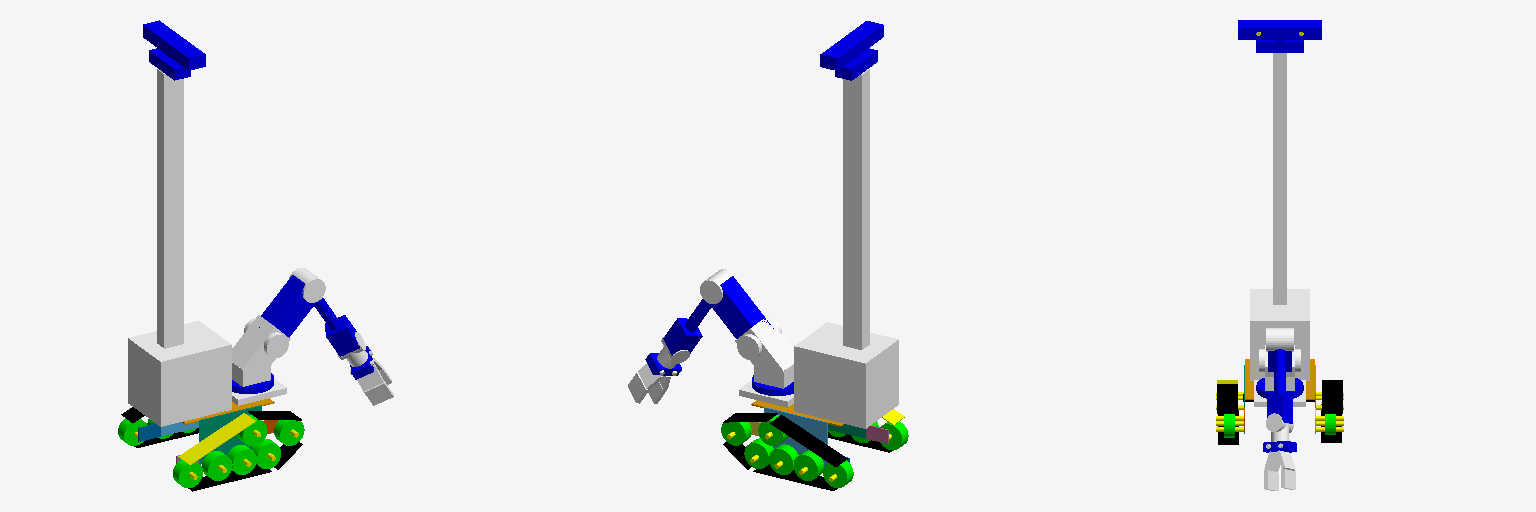
--- Render facts (derived) ---
Views: 3 orthographic renders of the robot side by side, from view 1: azimuth 30°, elevation 25°; view 2: azimuth 150°, elevation 25°; view 3: azimuth 270°, elevation 25°.
Model diego1 with 66 links and 65 joints (8 revolute, 12 continuous, 45 fixed), rooted at base_link, posed joints at zero except 1 at the middle of their limits (big_arm_round_to_joint_stevo2 = 1.79).
Visible links, largest first — view 1: control_box, camera_holder, big_arm, xtion_camera, shoulder_2, caterpilar_right2, right_leg, wrist, xtion_camera_base, arm_joint_stevo2, tyer_slave4_right, shoulder_1 (+7 smaller); view 2: control_box, camera_holder, big_arm, xtion_camera, shoulder_2, caterpilar_left2, left_leg, wrist, shoulder_1, xtion_camera_base, arm_joint_stevo2, tyer_slave4_left (+7 smaller); view 3: camera_holder, control_box, xtion_camera, arm_joint_stevo2, caterpilar_left1, caterpilar_right1, wrist, xtion_camera_base, base_link, arm_joint_stevo3.
Link boxes in pixels (bbox=[...]): control_box: bbox=[128, 321, 231, 426]; camera_holder: bbox=[157, 69, 183, 348]; big_arm: bbox=[259, 275, 316, 337]; xtion_camera: bbox=[143, 20, 205, 70]; shoulder_2: bbox=[232, 315, 290, 374]; caterpilar_right2: bbox=[178, 413, 255, 464]; right_leg: bbox=[199, 405, 261, 464]; wrist: bbox=[325, 315, 359, 356]; xtion_camera_base: bbox=[149, 48, 190, 80]; arm_joint_stevo2: bbox=[289, 268, 325, 302]; tyer_slave4_right: bbox=[202, 451, 232, 480]; shoulder_1: bbox=[232, 362, 270, 386]; control_box: bbox=[794, 322, 898, 428]; camera_holder: bbox=[843, 69, 869, 349]; big_arm: bbox=[709, 276, 773, 338]; xtion_camera: bbox=[820, 21, 883, 70]; shoulder_2: bbox=[735, 316, 793, 370]; caterpilar_left2: bbox=[770, 415, 847, 466]; left_leg: bbox=[764, 407, 827, 466]; wrist: bbox=[663, 318, 702, 355]; shoulder_1: bbox=[754, 364, 793, 388]; xtion_camera_base: bbox=[835, 48, 877, 80]; arm_joint_stevo2: bbox=[700, 269, 736, 303]; tyer_slave4_left: bbox=[794, 450, 823, 480]; camera_holder: bbox=[1273, 53, 1286, 304]; control_box: bbox=[1250, 289, 1309, 380]; xtion_camera: bbox=[1238, 20, 1321, 39]; arm_joint_stevo2: bbox=[1266, 328, 1293, 351]; caterpilar_left1: bbox=[1322, 384, 1342, 413]; caterpilar_right1: bbox=[1217, 384, 1237, 413]; wrist: bbox=[1267, 394, 1292, 423]; xtion_camera_base: bbox=[1256, 40, 1303, 52]; base_link: bbox=[1245, 359, 1314, 399]; arm_joint_stevo3: bbox=[1274, 349, 1285, 394].
Bounding box of the posed robot: 0.5646 × 0.273 × 0.9113 m (x, y, z).
Geometry: primitives only (box / cylinder / sphere), no mesh files.

The robot description file, URDF, robot "diego1":
<?xml version="1.0"?>
<robot name="diego1">
  <link name="base_link">
    <visual>
      <geometry>
        <box size="0.20 .15 .003"/>
      </geometry>
    </visual>
  </link>

  <link name="left_leg">
    <visual>
      <geometry>
        <box size="0.14 .003 .095"/>
      </geometry>
     </visual>
  </link>

  <joint name="base_to_left_leg" type="fixed">
    <parent link="base_link"/>
    <child link="left_leg"/>
    <origin xyz="0.0 0.075 -0.046"/>
  </joint>
  
  <link name="right_leg">
    <visual>
      <geometry>
        <box size="0.14 .003 .095"/>
      </geometry>
     </visual>
  </link>

  <joint name="base_to_right_leg" type="fixed">
    <parent link="base_link"/>
    <child link="right_leg"/>
    <origin xyz="0.0 -0.075 -0.046"/>
  </joint>  
  
  <link name="left_leg_front">
    <visual>
      <geometry>
        <box size="0.05 .003 .03"/>
      </geometry>
     </visual>
  </link>
  
  <joint name="base_to_left_leg_front" type="fixed">
    <parent link="left_leg"/>
    <child link="left_leg_front"/>
    <origin xyz="0.095 0.0 -0.0025"/>
  </joint>
  
  <link name="left_leg_back">
    <visual>
      <geometry>
        <box size="0.05 .003 .03"/>
      </geometry>
     </visual>
  </link>
  
  <joint name="base_to_left_leg_back" type="fixed">
    <parent link="left_leg"/>
    <child link="left_leg_back"/>
    <origin xyz="-0.095 0.0 -0.0325"/>
  </joint>
  
  <link name="right_leg_front">
    <visual>
      <geometry>
        <box size="0.05 .003 .03"/>
      </geometry>
     </visual>
  </link>
  
  <joint name="base_to_right_leg_front" type="fixed">
    <parent link="right_leg"/>
    <child link="right_leg_front"/>
    <origin xyz="0.095 0.0 -0.0025"/>
  </joint>
  
  <link name="right_leg_back">
    <visual>
      <geometry>
        <box size="0.05 .003 .03"/>
      </geometry>
     </visual>
  </link>
  
  <joint name="base_to_right_leg_back" type="fixed">
    <parent link="right_leg"/>
    <child link="right_leg_back"/>
    <origin xyz="-0.095 0.0 -0.0325"/>
  </joint>
  
  <link name="tyer_master_right_axis">
    <visual>
      <geometry>
       <cylinder length=".06" radius="0.005"></cylinder>
      </geometry>
      <material name="yellow">
          <color rgba="1 1 0 1"/>
      </material>  
    </visual>
  </link>
  
  <joint name="right_leg_to_master_right_axix" type="continuous">
    <axis xyz="0 0 1"/> 
    <parent link="right_leg"/>
    <child link="tyer_master_right_axis"/>
    <origin rpy="1.57075 0 0" xyz="0.03 -0.0315 0.0175"/>
    <limit effort="100" velocity="100"/> 
    <joint_properties damping="0.0" friction="0.0"/>
  </joint>

  <link name="tyer_master_left_axis">
    <visual>
      <geometry>
       <cylinder length=".06" radius="0.005"></cylinder>
      </geometry>
      <material name="yellow">
          <color rgba="1 1 0 1"/>
      </material>  
    </visual>
  </link>
  
  <joint name="left_leg_to_master_left_axis" type="continuous">
    <axis xyz="0 0 1"/> 
    <parent link="left_leg"/>
    <child link="tyer_master_left_axis"/>
    <origin rpy="1.57075 0 0" xyz="0.03 0.0315 0.0175"/>
    <limit effort="100" velocity="100"/> 
    <joint_properties damping="0.0" friction="0.0"/>
  </joint>
  
  <link name="tyer_master_right_motor">
    <visual>
      <geometry>
       <cylinder length=".068" radius="0.0075"></cylinder>
      </geometry>
      <material name="black">
          <color rgba="0 0 0 1"/>
      </material>  
    </visual>
  </link>
  
  <joint name="right_leg_to_master_right_motor" type="fixed">
    <axis xyz="0 0 1"/> 
    <parent link="right_leg"/>
    <child link="tyer_master_right_motor"/>
    <origin rpy="1.57075 0 0" xyz="0.03 0.0315 0.0175"/>
    <limit effort="100" velocity="100"/> 
    <joint_properties damping="0.0" friction="0.0"/>
  </joint>

  <link name="tyer_master_left_motor">
    <visual>
      <geometry>
       <cylinder length=".06" radius="0.0075"></cylinder>
      </geometry>
      <material name="black">
          <color rgba="0 0 0 1"/>
      </material>  
    </visual>
  </link>
  
  <joint name="left_leg_to_master_left_motor" type="fixed">
    <axis xyz="0 0 1"/> 
    <parent link="left_leg"/>
    <child link="tyer_master_left_motor"/>
    <origin rpy="1.57075 0 0" xyz="0.03 -0.0315 0.0175"/>
    <limit effort="100" velocity="100"/> 
    <joint_properties damping="0.0" friction="0.0"/>
  </joint>
  
  <link name="tyer_slave_right_axis1">
    <visual>
      <geometry>
       <cylinder length=".06" radius="0.005"></cylinder>
      </geometry>
      <material name="yellow">
          <color rgba="1 1 0 1"/>
      </material>  
    </visual>
  </link>
  
  <joint name="right_leg_to_slave_right_axix1" type="continuous">
    <axis xyz="0 0 1"/> 
    <parent link="right_leg_front"/>
    <child link="tyer_slave_right_axis1"/>
    <origin rpy="1.57075 0 0" xyz="0.02 -0.0315 0.0"/>
    <limit effort="100" velocity="100"/> 
    <joint_properties damping="0.0" friction="0.0"/>
  </joint>
  
  <link name="tyer_slave_right_axis2">
    <visual>
      <geometry>
       <cylinder length=".06" radius="0.005"></cylinder>
      </geometry>
      <material name="yellow">
          <color rgba="1 1 0 1"/>
      </material>  
    </visual>
  </link>
  
  <joint name="right_leg_to_slave_right_axix2" type="continuous">
    <axis xyz="0 0 1"/> 
    <parent link="right_leg"/>
    <child link="tyer_slave_right_axis2"/>
    <origin rpy="1.57075 0 0" xyz="0.063 -0.0315 -0.0405"/>
    <limit effort="100" velocity="100"/> 
    <joint_properties damping="0.0" friction="0.0"/>
  </joint>

  <link name="tyer_slave_right_axis3">
    <visual>
      <geometry>
       <cylinder length=".06" radius="0.005"></cylinder>
      </geometry>
      <material name="yellow">
          <color rgba="1 1 0 1"/>
      </material>  
    </visual>
  </link>
  
  <joint name="right_leg_to_slave_right_axix3" type="continuous">
    <axis xyz="0 0 1"/> 
    <parent link="right_leg"/>
    <child link="tyer_slave_right_axis3"/>
    <origin rpy="1.57075 0 0" xyz="0.008 -0.0315 -0.0405"/>
    <limit effort="100" velocity="100"/> 
    <joint_properties damping="0.0" friction="0.0"/>
  </joint>
  
  <link name="tyer_slave_right_axis4">
    <visual>
      <geometry>
       <cylinder length=".06" radius="0.005"></cylinder>
      </geometry>
      <material name="yellow">
          <color rgba="1 1 0 1"/>
      </material>  
    </visual>
  </link>
  
  <joint name="right_leg_to_slave_right_axix4" type="continuous">
    <axis xyz="0 0 1"/> 
    <parent link="right_leg"/>
    <child link="tyer_slave_right_axis4"/>
    <origin rpy="1.57075 0 0" xyz="-0.047 -0.0315 -0.0405"/>
    <limit effort="100" velocity="100"/> 
    <joint_properties damping="0.0" friction="0.0"/>
  </joint>  
  
  <link name="tyer_slave_right_axis5">
    <visual>
      <geometry>
       <cylinder length=".06" radius="0.005"></cylinder>
      </geometry>
      <material name="yellow">
          <color rgba="1 1 0 1"/>
      </material>  
    </visual>
  </link>
  
  <joint name="right_leg_to_slave_right_axix5" type="continuous">
    <axis xyz="0 0 1"/> 
    <parent link="right_leg_back"/>
    <child link="tyer_slave_right_axis5"/>
    <origin rpy="1.57075 0 0" xyz="-0.018 -0.0315 -0.008"/>
    <limit effort="100" velocity="100"/> 
    <joint_properties damping="0.0" friction="0.0"/>
  </joint>    
  
  <link name="tyer_slave_left_axis1">
    <visual>
      <geometry>
       <cylinder length=".06" radius="0.005"></cylinder>
      </geometry>
      <material name="yellow">
          <color rgba="1 1 0 1"/>
      </material>  
    </visual>
  </link>
  
  <joint name="right_leg_to_slave_left_axix1" type="continuous">
    <axis xyz="0 0 1"/> 
    <parent link="left_leg_front"/>
    <child link="tyer_slave_left_axis1"/>
    <origin rpy="1.57075 0 0" xyz="0.02 0.0315 0.0"/>
    <limit effort="100" velocity="100"/> 
    <joint_properties damping="0.0" friction="0.0"/>
  </joint>
  
  <link name="tyer_slave_left_axis2">
    <visual>
      <geometry>
       <cylinder length=".06" radius="0.005"></cylinder>
      </geometry>
      <material name="yellow">
          <color rgba="1 1 0 1"/>
      </material>  
    </visual>
  </link>
  
  <joint name="right_leg_to_slave_left_axix2" type="continuous">
    <axis xyz="0 0 1"/> 
    <parent link="left_leg"/>
    <child link="tyer_slave_left_axis2"/>
    <origin rpy="1.57075 0 0" xyz="0.063 0.0315 -0.0405"/>
    <limit effort="100" velocity="100"/> 
    <joint_properties damping="0.0" friction="0.0"/>
  </joint>

  <link name="tyer_slave_left_axis3">
    <visual>
      <geometry>
       <cylinder length=".06" radius="0.005"></cylinder>
      </geometry>
      <material name="yellow">
          <color rgba="1 1 0 1"/>
      </material>  
    </visual>
  </link>
  
  <joint name="right_leg_to_slave_left_axix3" type="continuous">
    <axis xyz="0 0 1"/> 
    <parent link="left_leg"/>
    <child link="tyer_slave_left_axis3"/>
    <origin rpy="1.57075 0 0" xyz="0.008 0.0315 -0.0405"/>
    <limit effort="100" velocity="100"/> 
    <joint_properties damping="0.0" friction="0.0"/>
  </joint>
  
  <link name="tyer_slave_left_axis4">
    <visual>
      <geometry>
       <cylinder length=".06" radius="0.005"></cylinder>
      </geometry>
      <material name="yellow">
          <color rgba="1 1 0 1"/>
      </material>  
    </visual>
  </link>
  
  <joint name="right_leg_to_slave_left_axix4" type="continuous">
    <axis xyz="0 0 1"/> 
    <parent link="left_leg"/>
    <child link="tyer_slave_left_axis4"/>
    <origin rpy="1.57075 0 0" xyz="-0.047 0.0315 -0.0405"/>
    <limit effort="100" velocity="100"/> 
    <joint_properties damping="0.0" friction="0.0"/>
  </joint>    

  <link name="tyer_slave_left_axis5">
    <visual>
      <geometry>
       <cylinder length=".06" radius="0.005"></cylinder>
      </geometry>
      <material name="yellow">
          <color rgba="1 1 0 1"/>
      </material>  
    </visual>
  </link>
  
  <joint name="right_leg_to_slave_left_axix5" type="continuous">
    <axis xyz="0 0 1"/> 
    <parent link="left_leg_back"/>
    <child link="tyer_slave_left_axis5"/>
    <origin rpy="1.57075 0 0" xyz="-0.018 0.0315 -0.008"/>
    <limit effort="100" velocity="100"/> 
    <joint_properties damping="0.0" friction="0.0"/>
  </joint>    
  
  <link name="tyer_master_left">
    <visual>
      <geometry>
       <cylinder length=".03" radius="0.0275"></cylinder>
      </geometry>
      <material name="green">
          <color rgba="0 1 0 1"/>
      </material>  
    </visual>
  </link>
  
  <joint name="right_leg_to_master_left" type="fixed">
    <axis xyz="0 0 1"/> 
    <parent link="tyer_master_left_axis"/>
    <child link="tyer_master_left"/>
    <origin rpy="0 0 0" xyz="0.0 0.0025 0.00"/>
    <limit effort="100" velocity="100"/> 
    <joint_properties damping="0.0" friction="0.0"/>
  </joint>  
  
  <link name="tyer_master_right">
    <visual>
      <geometry>
       <cylinder length=".03" radius="0.0275"></cylinder>
      </geometry>
      <material name="green">
          <color rgba="0 1 0 1"/>
      </material>  
    </visual>
  </link>
  
  <joint name="right_leg_to_master_right" type="fixed">
    <axis xyz="0 0 1"/> 
    <parent link="tyer_master_right_axis"/>
    <child link="tyer_master_right"/>
    <origin rpy="0 0 0" xyz="0.0 -0.0025 0.00"/>
    <limit effort="100" velocity="100"/> 
    <joint_properties damping="0.0" friction="0.0"/>
  </joint>
  
  <link name="tyer_slave1_left">
    <visual>
      <geometry>
       <cylinder length=".024" radius="0.0275"></cylinder>
      </geometry>
      <material name="green">
          <color rgba="0 1 0 1"/>
      </material>  
    </visual>
  </link>
  
  <joint name="right_leg_to_slave1_left" type="fixed">
    <axis xyz="0 0 1"/> 
    <parent link="tyer_slave_left_axis1"/>
    <child link="tyer_slave1_left"/>
    <origin rpy="0 0 0" xyz="0.0 0.0025 0.00"/>
    <limit effort="100" velocity="100"/> 
    <joint_properties damping="0.0" friction="0.0"/>
  </joint>         
  
  <link name="tyer_slave2_left">
    <visual>
      <geometry>
       <cylinder length=".024" radius="0.0275"></cylinder>
      </geometry>
      <material name="green">
          <color rgba="0 1 0 1"/>
      </material>  
    </visual>
  </link>
  
  <joint name="right_leg_to_slave2_left" type="fixed">
    <axis xyz="0 0 1"/> 
    <parent link="tyer_slave_left_axis2"/>
    <child link="tyer_slave2_left"/>
    <origin rpy="0 0 0" xyz="0.0 0.0025 0.00"/>
    <limit effort="100" velocity="100"/> 
    <joint_properties damping="0.0" friction="0.0"/>
  </joint>  
  
  <link name="tyer_slave3_left">
    <visual>
      <geometry>
       <cylinder length=".024" radius="0.0275"></cylinder>
      </geometry>
      <material name="green">
          <color rgba="0 1 0 1"/>
      </material>  
    </visual>
  </link>
  
  <joint name="right_leg_to_slave3_left" type="fixed">
    <axis xyz="0 0 1"/> 
    <parent link="tyer_slave_left_axis3"/>
    <child link="tyer_slave3_left"/>
    <origin rpy="0 0 0" xyz="0.0 0.0025 0.00"/>
    <limit effort="100" velocity="100"/> 
    <joint_properties damping="0.0" friction="0.0"/>
  </joint>   
  
  <link name="tyer_slave4_left">
    <visual>
      <geometry>
       <cylinder length=".024" radius="0.0275"></cylinder>
      </geometry>
      <material name="green">
          <color rgba="0 1 0 1"/>
      </material>  
    </visual>
  </link>
  
  <joint name="right_leg_to_slave4_left" type="fixed">
    <axis xyz="0 0 1"/> 
    <parent link="tyer_slave_left_axis4"/>
    <child link="tyer_slave4_left"/>
    <origin rpy="0 0 0" xyz="0.0 0.0025 0.00"/>
    <limit effort="100" velocity="100"/> 
    <joint_properties damping="0.0" friction="0.0"/>
  </joint>    
  
  <link name="tyer_slave5_left">
    <visual>
      <geometry>
       <cylinder length=".024" radius="0.0275"></cylinder>
      </geometry>
      <material name="green">
          <color rgba="0 1 0 1"/>
      </material>  
    </visual>
  </link>
  
  <joint name="right_leg_to_slave5_left" type="fixed">
    <axis xyz="0 0 1"/> 
    <parent link="tyer_slave_left_axis5"/>
    <child link="tyer_slave5_left"/>
    <origin rpy="0 0 0" xyz="0.0 0.0025 0.00"/>
    <limit effort="100" velocity="100"/> 
    <joint_properties damping="0.0" friction="0.0"/>
  </joint>           

  <link name="tyer_slave1_right">
    <visual>
      <geometry>
       <cylinder length=".024" radius="0.0275"></cylinder>
      </geometry>
      <material name="green">
          <color rgba="0 1 0 1"/>
      </material>  
    </visual>
  </link>
    
  <joint name="right_leg_to_slave1_right" type="fixed">
    <axis xyz="0 0 1"/> 
    <parent link="tyer_slave_right_axis1"/>
    <child link="tyer_slave1_right"/>
    <origin rpy="0 0 0" xyz="0.0 -0.0025 0.00"/>
    <limit effort="100" velocity="100"/> 
    <joint_properties damping="0.0" friction="0.0"/>
  </joint>   
  
  <link name="tyer_slave2_right">
    <visual>
      <geometry>
       <cylinder length=".024" radius="0.0275"></cylinder>
      </geometry>
      <material name="green">
          <color rgba="0 1 0 1"/>
      </material>  
    </visual>
  </link>
  
  <joint name="right_leg_to_slave2_right" type="fixed">
    <axis xyz="0 0 1"/> 
    <parent link="tyer_slave_right_axis2"/>
    <child link="tyer_slave2_right"/>
    <origin rpy="0 0 0" xyz="0.0 -0.0025 0.00"/>
    <limit effort="100" velocity="100"/> 
    <joint_properties damping="0.0" friction="0.0"/>
  </joint>      
  
  
  <link name="tyer_slave3_right">
    <visual>
      <geometry>
       <cylinder length=".024" radius="0.0275"></cylinder>
      </geometry>
      <material name="green">
          <color rgba="0 1 0 1"/>
      </material>  
    </visual>
  </link>
  
  <joint name="right_leg_to_slave3_right" type="fixed">
    <axis xyz="0 0 1"/> 
    <parent link="tyer_slave_right_axis3"/>
    <child link="tyer_slave3_right"/>
    <origin rpy="0 0 0" xyz="0.0 -0.0025 0.00"/>
    <limit effort="100" velocity="100"/> 
    <joint_properties damping="0.0" friction="0.0"/>
  </joint>   
  
  <link name="tyer_slave4_right">
    <visual>
      <geometry>
       <cylinder length=".024" radius="0.0275"></cylinder>
      </geometry>
      <material name="green">
          <color rgba="0 1 0 1"/>
      </material>  
    </visual>
  </link>
  
  <joint name="right_leg_to_slave4_right" type="fixed">
    <axis xyz="0 0 1"/> 
    <parent link="tyer_slave_right_axis4"/>
    <child link="tyer_slave4_right"/>
    <origin rpy="0 0 0" xyz="0.0 -0.0025 0.00"/>
    <limit effort="100" velocity="100"/> 
    <joint_properties damping="0.0" friction="0.0"/>
  </joint>    
  
  <link name="tyer_slave5_right">
    <visual>
      <geometry>
       <cylinder length=".024" radius="0.0275"></cylinder>
      </geometry>
      <material name="green">
          <color rgba="0 1 0 1"/>
      </material>  
    </visual>
  </link>
  
  <joint name="right_leg_to_slave5_right" type="fixed">
    <axis xyz="0 0 1"/> 
    <parent link="tyer_slave_right_axis5"/>
    <child link="tyer_slave5_right"/>
    <origin rpy="0 0 0" xyz="0.0 -0.0025 0.00"/>
    <limit effort="100" velocity="100"/> 
    <joint_properties damping="0.0" friction="0.0"/>
  </joint>  
  
  <link name="caterpilar_left1">
    <visual>
      <geometry>
       <box size="0.10 .045 .0015"/>
      </geometry>
      <material name="black">
          <color rgba="0 0 0 1"/>
      </material>  
    </visual>
  </link>    
  
  <joint name="tyer_master_left_motor_to_caterpilar_left1" type="fixed">
    <parent link="tyer_master_left_motor"/>
    <child link="caterpilar_left1"/>
    <origin rpy="1.57075 0 -0.24178" xyz="0.05 0.02 -0.068"/>
    <limit effort="100" velocity="100"/> 
    <joint_properties damping="0.0" friction="0.0"/>
  </joint>  
  
  <link name="caterpilar_left2">
    <visual>
      <geometry>
       <box size="0.16 .045 .0015"/>
      </geometry>
      <material name="black">
          <color rgba="0 0 0 1"/>
      </material>  
    </visual>
  </link>    
  
  <joint name="tyer_master_left_motor_to_caterpilar_left2" type="fixed">
    <parent link="tyer_master_left_motor"/>
    <child link="caterpilar_left2"/>
    <origin rpy="1.57075 0 0.38178" xyz="-0.080 -0.00 -0.068"/>
    <limit effort="100" velocity="100"/> 
    <joint_properties damping="0.0" friction="0.0"/>
  </joint>    
  
  <link name="caterpilar_left3">
    <visual>
      <geometry>
       <box size="0.07 .045 .0015"/>
      </geometry>
      <material name="black">
          <color rgba="0 0 0 1"/>
      </material>  
    </visual>
  </link>    
  
  <joint name="tyer_master_left_motor_to_caterpilar_left3" type="fixed">
    <parent link="tyer_slave2_left"/>
    <child link="caterpilar_left3"/>
    <origin rpy="1.57075 0 0.64178" xyz="0.0405 -0.0065 -0.002"/>
    <limit effort="100" velocity="100"/> 
    <joint_properties damping="0.0" friction="0.0"/>
  </joint>  
  
  <link name="caterpilar_left4">
    <visual>
      <geometry>
       <box size="0.18 .045 .0015"/>
      </geometry>
      <material name="black">
          <color rgba="0 0 0 1"/>
      </material>  
    </visual>
  </link>    
  
  <joint name="tyer_master_left_motor_to_caterpilar_left4" type="fixed">
    <parent link="tyer_slave2_left"/>
    <child link="caterpilar_left4"/>
    <origin rpy="1.57075 0 0" xyz="-0.09 -0.028 -0.002"/>
    <limit effort="100" velocity="100"/> 
    <joint_properties damping="0.0" friction="0.0"/>
  </joint>    
  
  <link name="caterpilar_right1">
    <visual>
      <geometry>
       <box size="0.10 .045 .0015"/>
      </geometry>
      <material name="black">
          <color rgba="0 0 0 1"/>
      </material>  
    </visual>
  </link>    
  
  <joint name="tyer_master_left_motor_to_caterpilar_right1" type="fixed">
    <parent link="tyer_master_right_motor"/>
    <child link="caterpilar_right1"/>
    <origin rpy="1.57075 0 -0.24178" xyz="0.05 0.02 0.068"/>
    <limit effort="100" velocity="100"/> 
    <joint_properties damping="0.0" friction="0.0"/>
  </joint>  
  
  <link name="caterpilar_right2">
    <visual>
      <geometry>
       <box size="0.16 .045 .0015"/>
      </geometry>
      <material name="yellow">
          <color rgba="1 1 0 1"/>
      </material>  
    </visual>
  </link>    
  
  <joint name="tyer_master_left_motor_to_caterpilar_right2" type="fixed">
    <parent link="tyer_master_right_motor"/>
    <child link="caterpilar_right2"/>
    <origin rpy="1.57075 0 0.38178" xyz="-0.080 -0.00 0.068"/>
    <limit effort="100" velocity="100"/> 
    <joint_properties damping="0.0" friction="0.0"/>
  </joint>    
  
  <link name="caterpilar_right3">
    <visual>
      <geometry>
       <box size="0.07 .045 .0015"/>
      </geometry>
      <material name="black">
          <color rgba="0 0 0 1"/>
      </material>  
    </visual>
  </link>    
  
  <joint name="tyer_master_left_motor_to_caterpilar_right3" type="fixed">
    <parent link="tyer_slave2_right"/>
    <child link="caterpilar_right3"/>
    <origin rpy="1.57075 0 0.64178" xyz="0.0405 -0.0065 0.002"/>
    <limit effort="100" velocity="100"/> 
    <joint_properties damping="0.0" friction="0.0"/>
  </joint>  
  
  <link name="caterpilar_right4">
    <visual>
      <geometry>
       <box size="0.18 .045 .0015"/>
      </geometry>
      <material name="black">
          <color rgba="0 0 0 1"/>
      </material>  
    </visual>
  </link>    
  
  <joint name="tyer_master_left_motor_to_caterpilar_right4" type="fixed">
    <parent link="tyer_slave2_right"/>
    <child link="caterpilar_right4"/>
    <origin rpy="1.57075 0 0" xyz="-0.09 -0.028 0.002"/>
    <limit effort="100" velocity="100"/> 
    <joint_properties damping="0.0" friction="0.0"/>
  </joint>    
  
  <link name="arm_base">
    <visual>
      <geometry>
       <box size="0.11 .11 .013"/>
      </geometry>
      <material name="black">
          <color rgba="255 255 255 1"/>
      </material>  
    </visual>
  </link>  
  
  <joint name="base_to_arm_base" type="fixed">
    <parent link="base_link"/>
    <child link="arm_base"/>
    <origin xyz="0.085 0.0 0.008"/>
  </joint>  
  
  <link name="control_box">
    <visual>
      <geometry>
       <box size="0.16 .128 .14"/>
      </geometry>
      <material name="black">
          <color rgba="255 255 255 1"/>
      </material>  
    </visual>
  </link>  
  
  <joint name="base_to_control_box" type="fixed">
    <parent link="base_link"/>
    <child link="control_box"/>
    <origin xyz="-0.07 0.0 0.0715"/>
  </joint>  
<!-- camera holder-->  
  <link name="camera_holder">
    <visual>
      <geometry>
       <box size="0.043 .03 .59"/>
      </geometry>
      <material name="silver">
          <color rgba="161 161 161 1"/>
      </material>  
    </visual>
  </link>  
  
  <joint name="control_box_to_camera_holder" type="fixed">
    <parent link="control_box"/>
    <child link="camera_holder"/>
    <origin xyz="-0.0215 0.0 0.365"/>
  </joint>  
  
<!-- xtion-->
  <link name="xtion_camera_base">
    <visual>
      <geometry>
       <box size="0.038 .10 .025"/>
      </geometry>
      <material name="black">
          <color rgba="0 0 1 1"/>
      </material>  
    </visual>
  </link>  
  
  <joint name="camera_holder_to_xtion_camera_base" type="fixed">
    <parent link="camera_holder"/>
    <child link="xtion_camera_base"/>
    <origin xyz="0.0 0.0 0.3075"/>
  </joint>
  
  <link name="xtion_camera_base_neck">
    <visual>
      <geometry>
       <box size="0.020 .020 .020"/>
      </geometry>
      <material name="black">
          <color rgba="0 0 50 1"/>
      </material>  
    </visual>
  </link>  
  
  <joint name="xtion_camera_base_to_neck" type="fixed">
    <parent link="xtion_camera_base"/>
    <child link="xtion_camera_base_neck"/>
    <origin xyz="0.009 0.0 0.0125"/>
  </joint>   
  
  <link name="xtion_camera">
    <visual>
      <geometry>
       <box size="0.038 .18 .027"/>
      </geometry>
      <material name="black">
          <color rgba="0 0 1 1"/>
      </material>  
    </visual>
  </link>  
  
  <joint name="xtion_camera_base_neck_to_camera" type="fixed">
    <parent link="xtion_camera_base_neck"/>
    <child link="xtion_camera"/>
    <origin xyz="0.0 0.0 0.0235"/>
  </joint>      
  
  <link name="xtion_camera_eye_left">
    <visual>
      <geometry>
       <cylinder length=".002" radius="0.005"></cylinder>
      </geometry>
      <material name="yellow">
          <color rgba="1 1 0 1"/>
      </material>  
    </visual>
  </link>
  
  <joint name="xtion_camera_to_eye_left" type="fixed">
    <axis xyz="0 0 1"/> 
    <parent link="xtion_camera"/>
    <child link="xtion_camera_eye_left"/>
    <origin rpy="0 1.57075 0" xyz="0.0191 0.045 0.0"/>
    <limit effort="100" velocity="100"/> 
    <joint_properties damping="0.0" friction="0.0"/>
  </joint>   
  
  <link name="xtion_camera_eye_right">
    <visual>
      <geometry>
       <cylinder length=".002" radius="0.005"></cylinder>
      </geometry>
      <material name="yellow">
          <color rgba="1 1 0 1"/>
      </material>  
    </visual>
  </link>
  
  <joint name="xtion_camera_to_eye_right" type="fixed">
    <axis xyz="0 0 1"/> 
    <parent link="xtion_camera"/>
    <child link="xtion_camera_eye_right"/>
    <origin rpy="0 1.57075 0" xyz="0.0191 -0.045 0.0"/>
    <limit effort="100" velocity="100"/> 
    <joint_properties damping="0.0" friction="0.0"/>
  </joint>
<!--arm-->
  <link name="arm_round_joint_stevo0">
    <visual>
      <geometry>
       <cylinder length=".013" radius="0.05"></cylinder>
      </geometry>
      <material name="blue">
          <color rgba="0 0 255 1"/>
      </material>  
    </visual>
  </link>
  
  <joint name="arm_base_to_arm_round_joint_stevo0" type="revolute">
    <axis xyz="0 0 1"/> 
    <parent link="arm_base"/>
    <child link="arm_round_joint_stevo0"/>
    <origin rpy="0 0 0" xyz="0.00 0.00 0.013"/>
    <limit effort="100" velocity="100" lower="-1.5707963" upper="1.5707963"/> 
    <joint_properties damping="0.0" friction="0.0"/>
  </joint>  
  
  <link name="shoulder_1">
    <visual>
      <geometry>
       <box size="0.065 .065 .037"/>
      </geometry>
      <material name="silver1">
          <color rgba="232 232 232 1"/>
      </material>  
    </visual>
  </link>  
  
  <joint name="arm_round_joint_stevo0_to_shoulder_1" type="fixed">
    <parent link="arm_round_joint_stevo0"/>
    <child link="shoulder_1"/>
    <origin xyz="0.0 0.0 0.025"/>
  </joint>  
  
   <link name="shoulder_2">
    <visual>
      <geometry>
       <box size="0.05 .065 .105"/>
      </geometry>
      <material name="silver">
          <color rgba="232 232 232 1"/>
      </material>  
    </visual>
  </link>  
  
  <joint name="shoulder_1_to_shoulder_1" type="fixed">
    <parent link="shoulder_1"/>
    <child link="shoulder_2"/>
    <origin rpy="0 0.785398 0" xyz="0.022 0.0 0.03915"/>
  </joint>  
  
  <link name="arm_joint_stevo1">
    <visual>
      <geometry>
       <cylinder length=".09" radius="0.025"></cylinder>
      </geometry>
      <material name="black">
          <color rgba="255 255 255 1"/>
      </material>  
    </visual>
  </link>
  
  <joint name="shoulder_2_to_arm_joint_stevo1" type="revolute">
    <axis xyz="0 0 1"/> 
    <parent link="shoulder_2"/>
    <child link="arm_joint_stevo1"/>
    <origin rpy="1.5707963 0 0" xyz="0.00 0.00 0.025"/>
    <limit effort="100" velocity="100" lower="-0.1899" upper="1.5707963"/> 
    <joint_properties damping="0.0" friction="0.0"/>
  </joint>  
  
   <link name="big_arm">
    <visual>
      <geometry>
       <box size="0.05 .05 .13"/>
      </geometry>
      <material name="blue">
          <color rgba="0 0 255 1"/>
      </material>  
    </visual>
  </link>  
  
  <joint name="arm_joint_stevo1_to_big_arm" type="fixed">
    <parent link="arm_joint_stevo1"/>
    <child link="big_arm"/>
    <origin rpy="1.5707963 0 0" xyz="0.0 0.065 0.0"/>
  </joint>  
  
  <link name="arm_joint_stevo2">
    <visual>
      <geometry>
       <cylinder length=".06" radius="0.025"></cylinder>
      </geometry>
      <material name="black">
          <color rgba="255 255 255 1"/>
      </material>  
    </visual>
  </link>
  
  <joint name="big_arm_round_to_joint_stevo2" type="revolute">
    <axis xyz="0 0 1"/> 
    <parent link="big_arm"/>
    <child link="arm_joint_stevo2"/>
    <origin rpy="1.5707963 0 0" xyz="0.00 0.00 -0.065"/>
    <limit effort="100" velocity="100" lower="1.0" upper="2.5891"/> 
    <joint_properties damping="0.0" friction="0.0"/>
  </joint>    

  <link name="arm_joint_stevo3">
    <visual>
      <geometry>
       <cylinder length=".12" radius="0.012"></cylinder>
      </geometry>
      <material name="blue">
          <color rgba="0 0 255 1"/>
      </material>  
    </visual>
  </link>  
  
 <joint name="arm_joint_stevo2_to_arm_joint_stevo3" type="revolute">
    <axis xyz="0 0 1"/> 
    <parent link="arm_joint_stevo2"/>
    <child link="arm_joint_stevo3"/>
    <origin rpy="1.5707963 -0.52359877 0" xyz="0.00 -0.06 0.00"/>
    <limit effort="100" velocity="100" lower="-1.5707963" upper="1.5707963"/> 
    <joint_properties damping="0.0" friction="0.0"/>
  </joint> 

  <link name="wrist">
    <visual>
      <geometry>
       <box size="0.045 .04 .06"/>
      </geometry>
      <material name="blue">
          <color rgba="0 0 255 1"/>
      </material>  
    </visual>
  </link>  
  
  <joint name="arm_joint_stevo3_to_wrist" type="fixed">
    <parent link="arm_joint_stevo3"/>
    <child link="wrist"/>
    <origin rpy="0 0 0" xyz="0.0 0.0 0.09"/>
  </joint>  

  <link name="arm_joint_stevo4">
    <visual>
      <geometry>
       <cylinder length=".05" radius="0.02"></cylinder>
      </geometry>
      <material name="black">
          <color rgba="255 255 255 1"/>
      </material>  
    </visual>
  </link>  
  
 <joint name="wrist_to_arm_joint_stevo4" type="revolute">
    <axis xyz="0 0 1"/> 
    <parent link="wrist"/>
    <child link="arm_joint_stevo4"/>
    <origin rpy="0 1.5707963 0" xyz="0.00 0.00 0.03"/>
    <limit effort="100" velocity="100" lower="-1.5707963" upper="1.5707963"/> 
    <joint_properties damping="0.0" friction="0.0"/>
  </joint>

  <link name="arm_joint_stevo5">
    <visual>
      <geometry>
       <cylinder length=".04" radius="0.02"></cylinder>
      </geometry>
      <material name="black">
          <color rgba="255 255 255 1"/>
      </material>  
    </visual>
  </link>
  <joint name="arm_joint_stevo4_to_arm_joint_stevo5" type="revolute">
    <axis xyz="0 0 1"/> 
    <parent link="arm_joint_stevo4"/>
    <child link="arm_joint_stevo5"/>
    <origin rpy="0 1.5707963 0" xyz="-0.02 0.00 0.00"/>
    <limit effort="100" velocity="100" lower="-1.5707963" upper="1.5707963"/> 
    <joint_properties damping="0.0" friction="0.0"/>
  </joint> 

  <link name="hand">
    <visual>
      <geometry>
       <box size="0.04 .06 .02"/>
      </geometry>
      <material name="blue">
          <color rgba="0 0 255 1"/>
      </material>  
    </visual>
  </link>  
  
  <joint name="arm_joint_stevo5_to_hand" type="fixed">
    <parent link="arm_joint_stevo5"/>
    <child link="hand"/>
    <origin rpy="0 0 0" xyz="0.0 0.0 -0.03"/>
  </joint> 

  <link name="grip_joint_stevo6">
    <visual>
      <geometry>
       <cylinder length=".05" radius="0.005"></cylinder>
      </geometry>
      <material name="black">
          <color rgba="255 255 255 1"/>
      </material>  
    </visual>
  </link>
  <joint name="hand_to_grip_joint_stevo6" type="revolute">
    <axis xyz="0 0 1"/> 
    <parent link="hand"/>
    <child link="grip_joint_stevo6"/>
    <origin rpy="0 1.5707963 0" xyz="0.00 0.015 0.00"/>
    <limit effort="100" velocity="100" lower="-0.1762" upper="0.8285"/> 
    <joint_properties damping="0.0" friction="0.0"/>
  </joint> 

  <link name="grip_joint_stevo7">
    <visual>
      <geometry>
       <cylinder length=".05" radius="0.005"></cylinder>
      </geometry>
      <material name="black">
          <color rgba="255 255 255 1"/>
      </material>  
    </visual>
  </link>
  <joint name="hand_to_grip_joint_stevo7" type="revolute">
    <axis xyz="0 0 1"/> 
    <parent link="hand"/>
    <child link="grip_joint_stevo7"/>
    <origin rpy="0 1.5707963 0" xyz="0.00 -0.015 0.00"/>
    <limit effort="100" velocity="100" lower="-0.8285" upper="0.1584"/> 
    <joint_properties damping="0.0" friction="0.0"/>
  </joint> 

  <link name="finger_left_big">
    <visual>
      <geometry>
       <box size="0.04 .009 .045"/>
      </geometry>
      <material name="red">
          <color rgba="194 194 194 1"/>
      </material>  
    </visual>
  </link>  
  
  <joint name="grip_joint_stevo6_to_finger_left_big" type="fixed">
    <parent link="grip_joint_stevo6"/>
    <child link="finger_left_big"/>
    <origin rpy="0 0 0.34906585" xyz="0.03 0.0 0.0"/>
  </joint> 

  <link name="finger_left_small">
    <visual>
      <geometry>
       <box size="0.04 .009 .045"/>
      </geometry>
      <material name="red">
          <color rgba="194 194 194 1"/>
      </material>  
    </visual>
  </link>  
  
  <joint name="finger_left_big_to_finger_left_small" type="fixed">
    <parent link="finger_left_big"/>
    <child link="finger_left_small"/>
    <origin rpy="0 0 -0.34906585" xyz="0.04 -0.008 0.0"/>
  </joint> 

  <link name="finger_right_big">
    <visual>
      <geometry>
       <box size="0.04 .009 .045"/>
      </geometry>
      <material name="red">
          <color rgba="194 194 194 1"/>
      </material>  
    </visual>
  </link>  
  
  <joint name="grip_joint_stevo7_to_finger_right_big" type="fixed">
    <parent link="grip_joint_stevo7"/>
    <child link="finger_right_big"/>
    <origin rpy="0 0 -0.34906585" xyz="0.03 0.0 0.0"/>
  </joint>
  <link name="finger_right_small">
    <visual>
      <geometry>
       <box size="0.04 .009 .045"/>
      </geometry>
      <material name="red">
          <color rgba="194 194 194 1"/>
      </material>  
    </visual>
  </link>  
  
  <joint name="finger_right_big_to_finger_right_small" type="fixed">
    <parent link="finger_right_big"/>
    <child link="finger_right_small"/>
    <origin rpy="0 0 0.34906585" xyz="0.04 0.008 0.0"/>
  </joint> 
 </robot>
